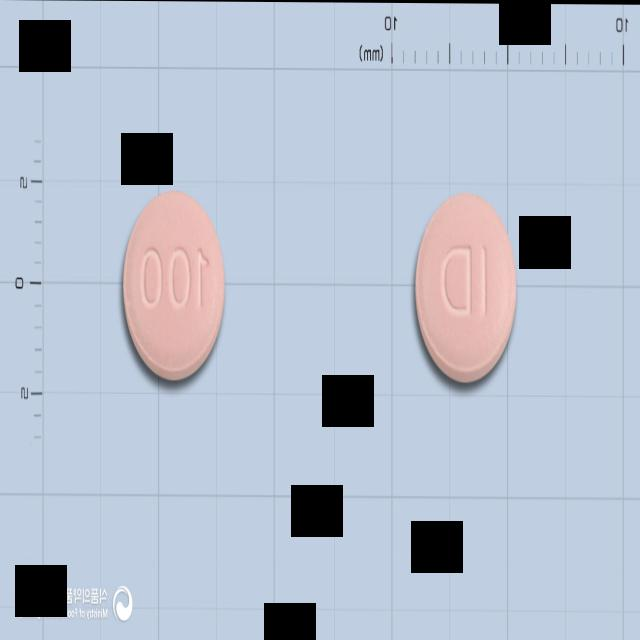Flomox: (413, 190, 517, 383), (122, 189, 225, 381)
